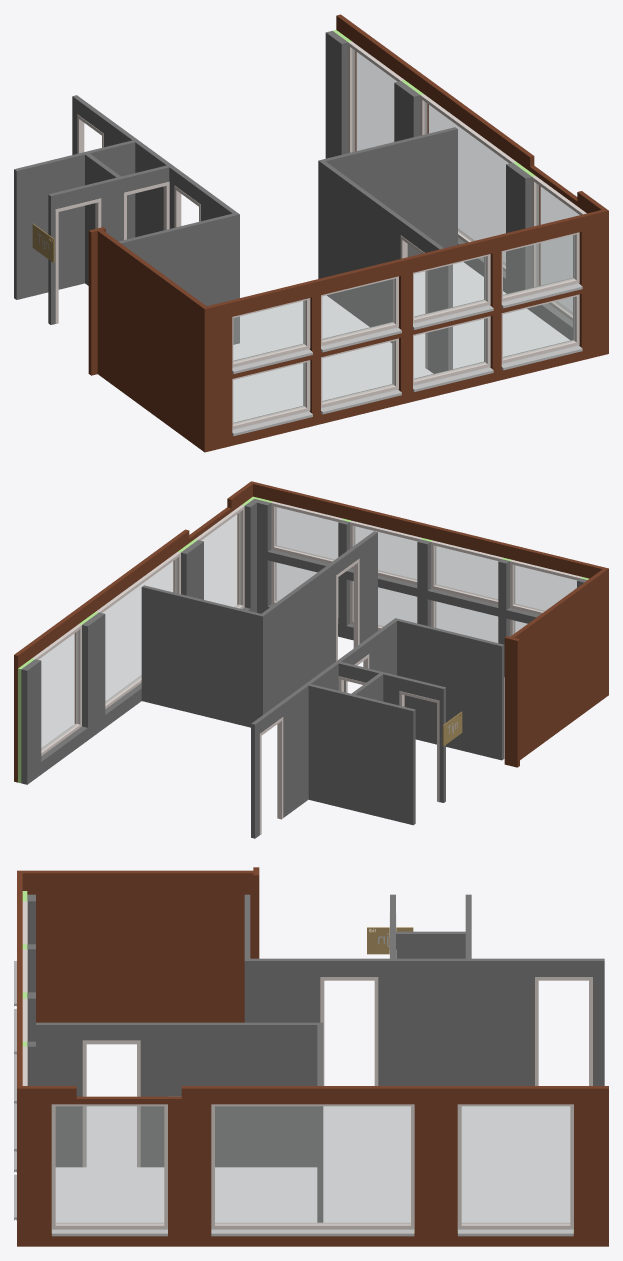
3 views of the same model, one above another, from view 1: azimuth 30°, elevation 25°; view 2: azimuth 150°, elevation 25°; view 3: azimuth 270°, elevation 25° (orthographic). The views are drawn at different scales.
Visible parts, largest first — view 1: Walls, System Panel, Rectangular Mullion, NLRS_41_GM_WPB_waterslag RD50-90x160_vebo_ISR; view 2: Walls, System Panel, Rectangular Mullion; view 3: Walls, System Panel, Rectangular Mullion, NLRS_41_GM_WPB_waterslag RD50-90x160_vebo_ISR, Walls.001.
Boxes of the visible parts, <box> form: Walls: <box>14,14,608,452</box>; System Panel: <box>233,49,578,424</box>; Rectangular Mullion: <box>55,41,586,429</box>; NLRS_41_GM_WPB_waterslag RD50-90x160_vebo_ISR: <box>232,228,582,435</box>; Walls: <box>14,481,608,838</box>; System Panel: <box>39,507,576,750</box>; Rectangular Mullion: <box>32,501,581,834</box>; Walls: <box>17,867,608,1246</box>; System Panel: <box>56,1106,569,1224</box>; Rectangular Mullion: <box>22,901,592,1228</box>; NLRS_41_GM_WPB_waterslag RD50-90x160_vebo_ISR: <box>14,961,573,1236</box>; Walls.001: <box>367,927,413,954</box>.
Bounding box in the file's own units: 9.05 × 3 × 10.23.
